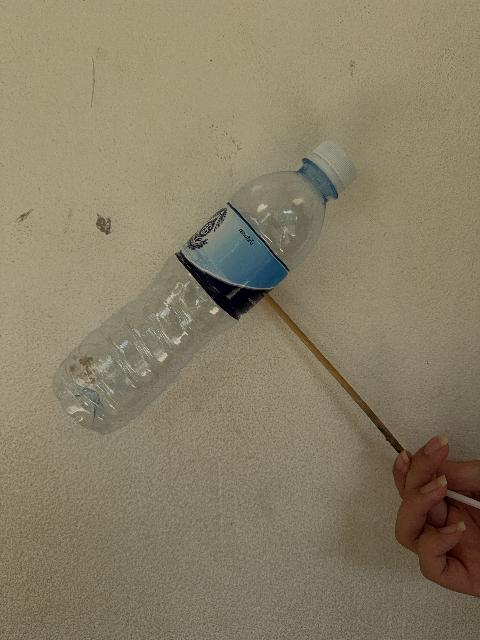bottle: (53, 142, 355, 433)
